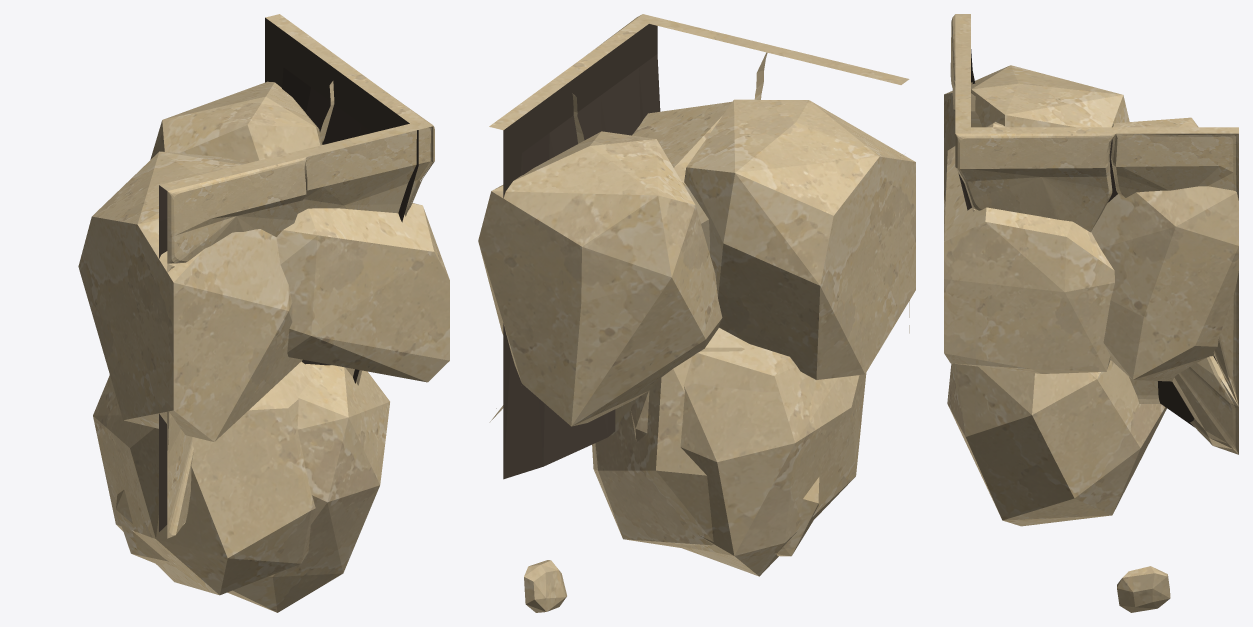
The model's file is ground_bottom_corner_04.glb.
The picture shows the model from 3 angles, left to right: view 1: azimuth 30°, elevation 25°; view 2: azimuth 150°, elevation 25°; view 3: azimuth 270°, elevation 25°; orthographic projection. The views are drawn at different scales.
Parts seen in each view (by area): view 1: GroundBottomCorner04_Body; view 2: GroundBottomCorner04_Body; view 3: GroundBottomCorner04_Body.
Part boxes in pixels (x1,y1,x2,y2): GroundBottomCorner04_Body: (78, 14, 449, 612); GroundBottomCorner04_Body: (478, 14, 915, 612); GroundBottomCorner04_Body: (944, 14, 1238, 612).
Bounding box in the file's own units: 1.04 × 1.87 × 1.04.
10 materials, 9 textured.
